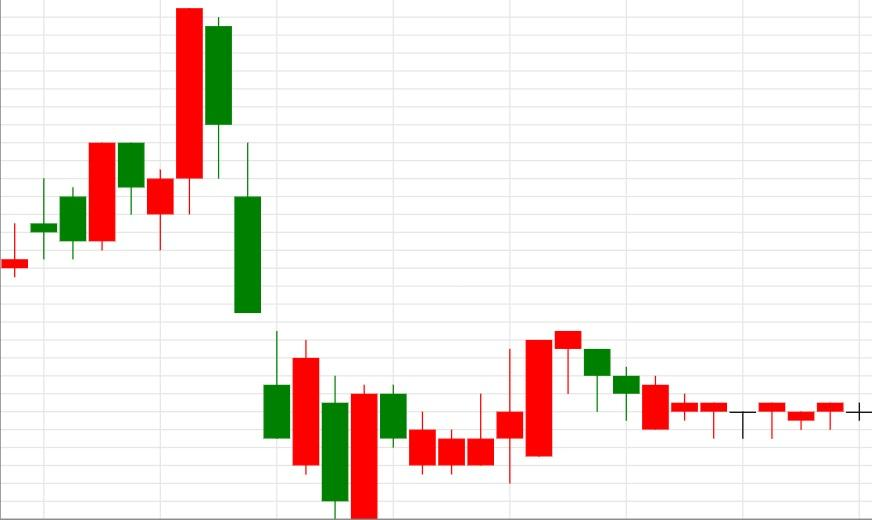hanging_man_fall: (437, 330, 582, 484)
three_black_crows_fall: (0, 7, 292, 438)
